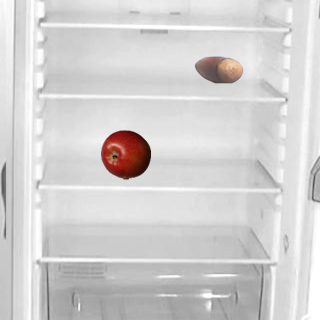Apple Braeburn: (100, 129, 150, 179)
Hazelnut: (193, 44, 243, 94)
